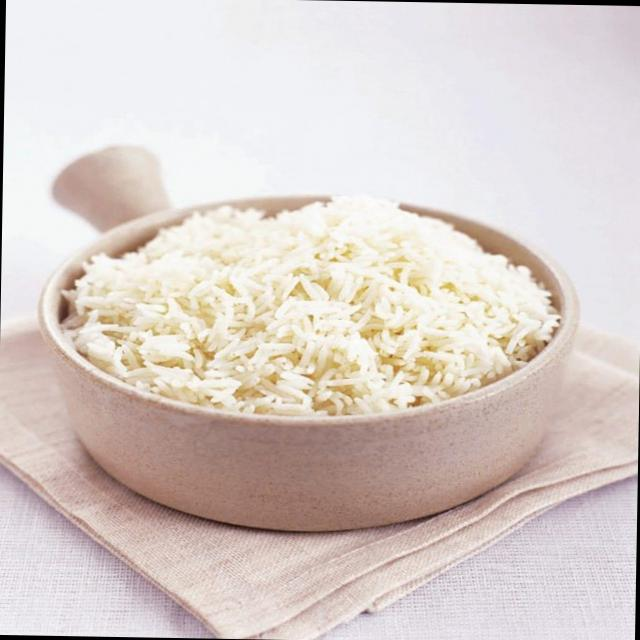rice: (58, 200, 554, 416)
